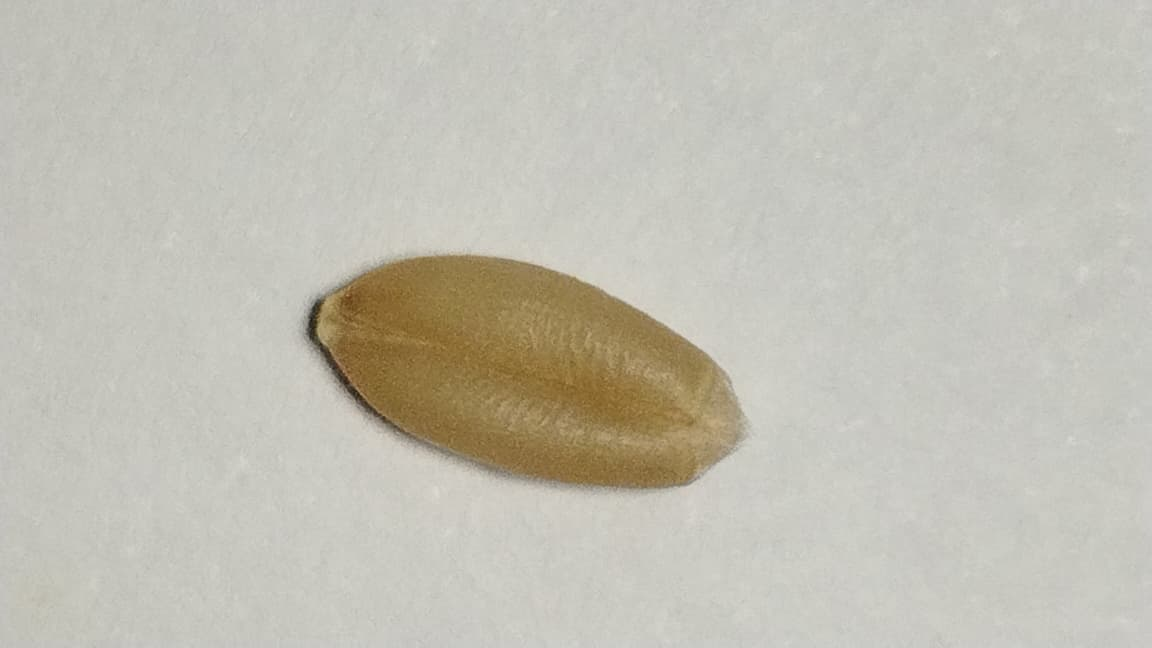healthy: (315, 255, 743, 488)
